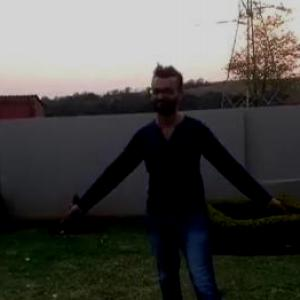land: (65, 64, 297, 299)
